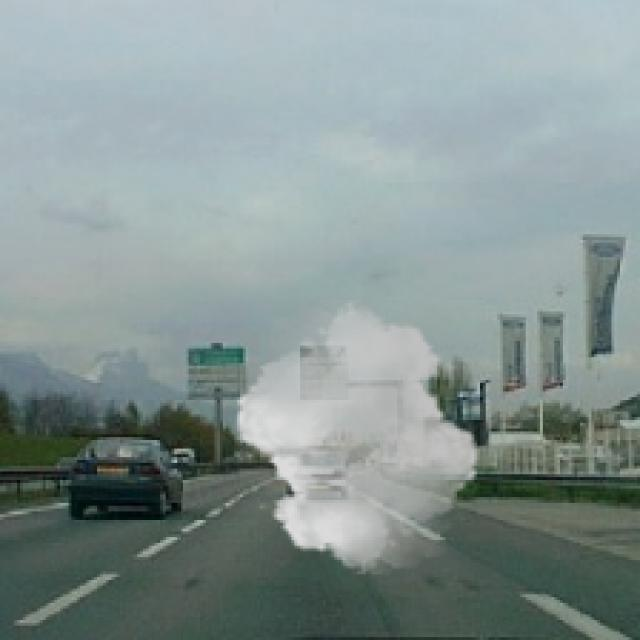smoke: (226, 300, 488, 574)
